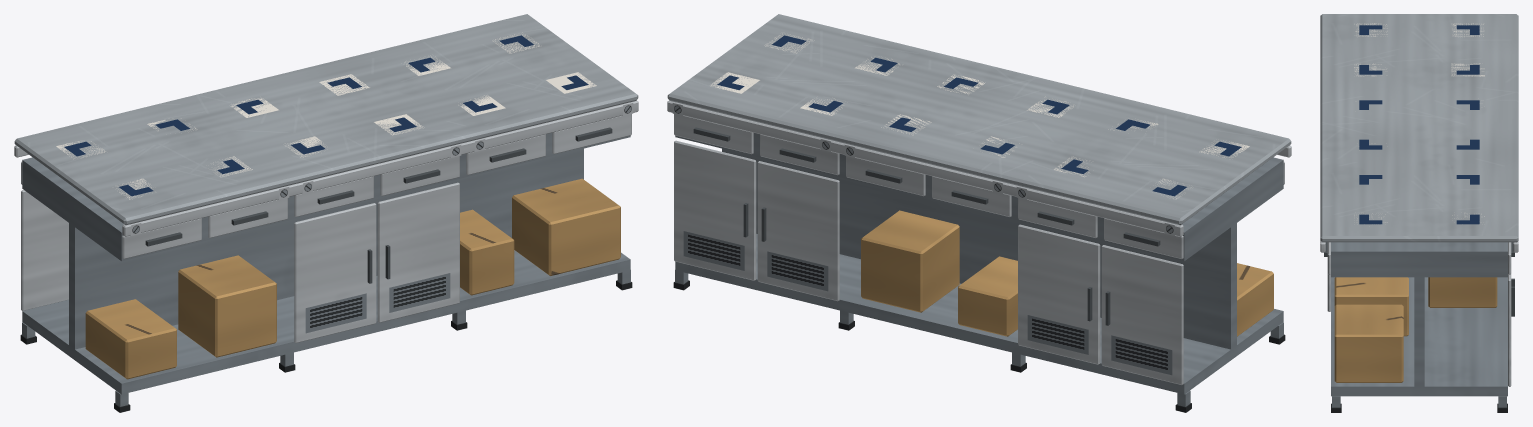
The model's file is pass_3m.glb.
The picture shows the model from 3 angles, left to right: view 1: azimuth 30°, elevation 25°; view 2: azimuth 150°, elevation 25°; view 3: azimuth 270°, elevation 25°; orthographic projection. The views are drawn at different scales.
Visible parts, largest first — view 1: pass_3m_body; view 2: pass_3m_body; view 3: pass_3m_body.
Boxes of the visible parts, x1,y1,x2,y2 form: pass_3m_body: (14, 14, 638, 412); pass_3m_body: (667, 14, 1291, 412); pass_3m_body: (1320, 14, 1518, 412).
Bounding box in the file's own units: 2.99 × 1.1 × 1.12.
Materials: 7 (6 with a texture image).
